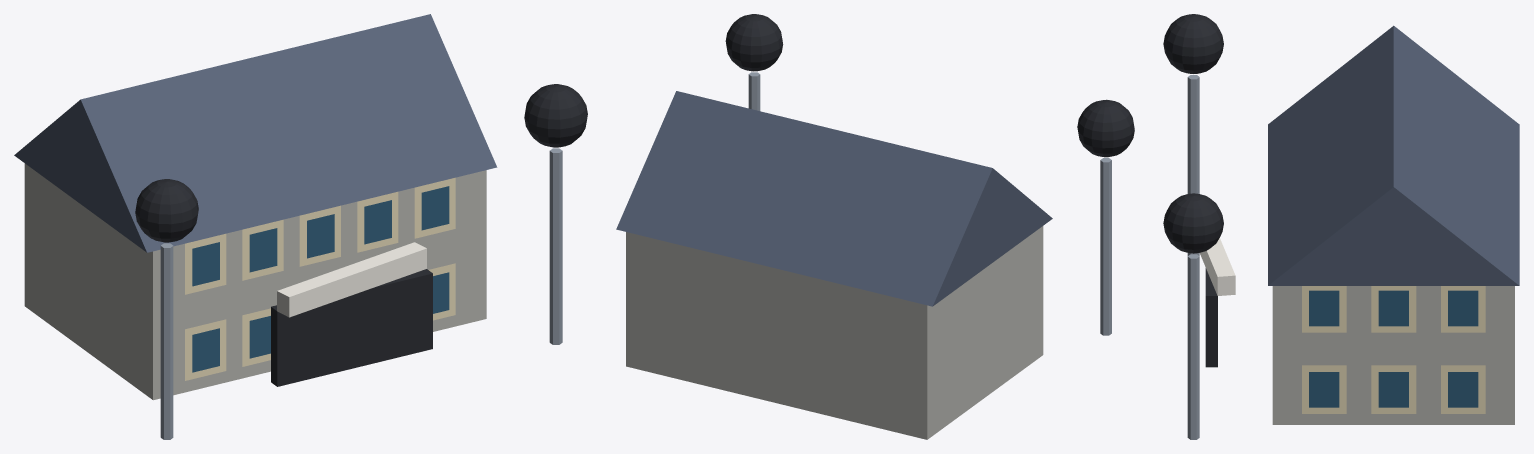
The model's file is building_film_studio.fbx.
3 renders of one model, left to right at view 1: azimuth 30°, elevation 25°; view 2: azimuth 150°, elevation 25°; view 3: azimuth 270°, elevation 25°, orthographic. The views are drawn at different scales.
Visible parts, largest first — view 1: building_film_studio; view 2: building_film_studio; view 3: building_film_studio.
Part boxes in pixels (left/top/right/bottom): building_film_studio: left=14, top=14, right=587, bottom=439; building_film_studio: left=616, top=14, right=1134, bottom=439; building_film_studio: left=1163, top=14, right=1519, bottom=439.
Bounding box in the file's own units: 80 × 44 × 58.75.
